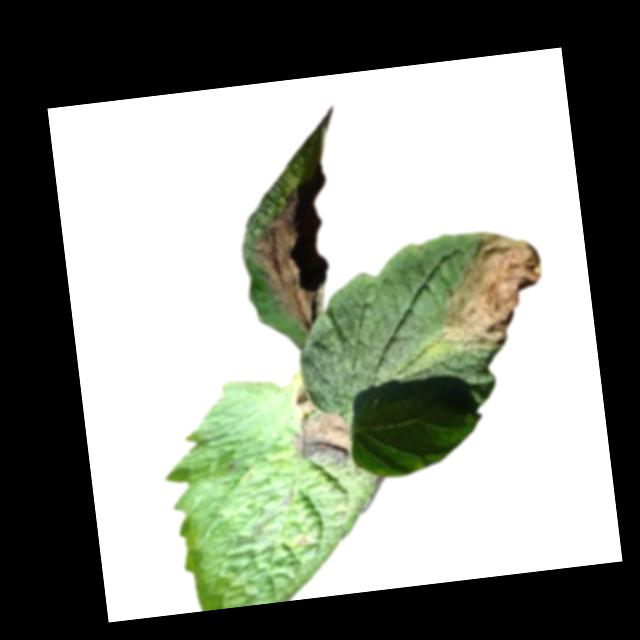Late_blight: (426, 223, 552, 354), (251, 188, 316, 338), (289, 407, 356, 469), (292, 382, 318, 413)
